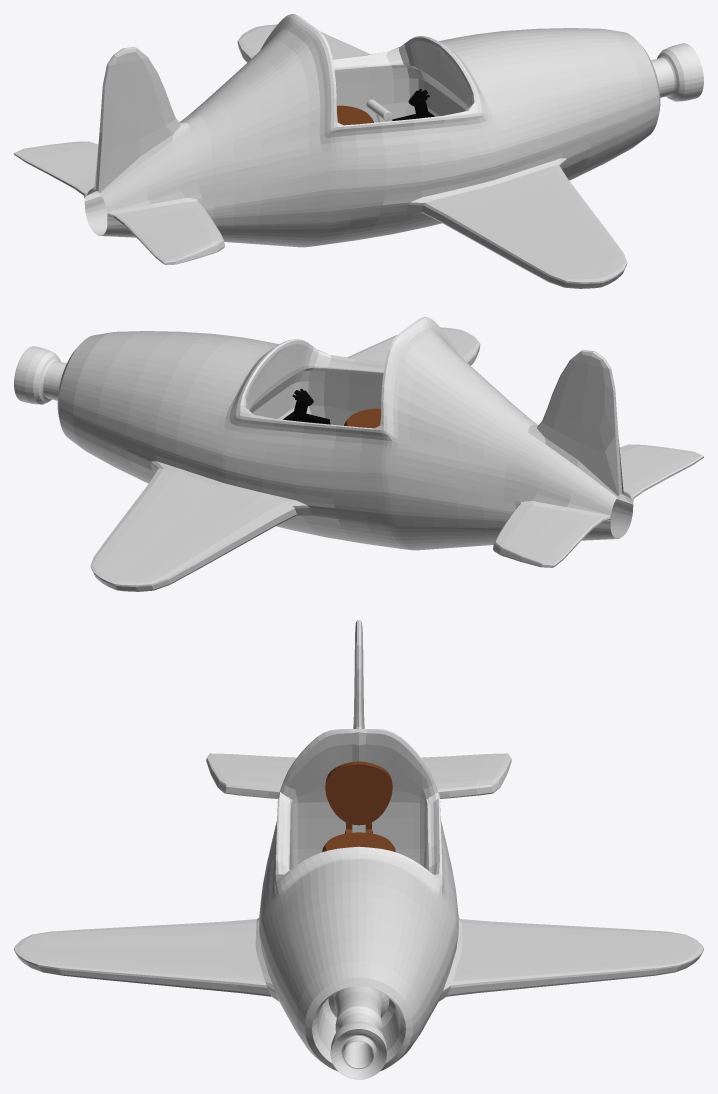
3 views of the same model, one above another, from view 1: azimuth 30°, elevation 25°; view 2: azimuth 150°, elevation 25°; view 3: azimuth 270°, elevation 25° (orthographic).
Visible parts, largest first — view 1: Cylinder, Cylinder.003; view 2: Cylinder, Cylinder.003, Cube.002; view 3: Cylinder, Cylinder.003.
Part boxes in pixels (x1=…): Cylinder: x1=14, y1=14, x2=703, y2=288; Cylinder.003: x1=337, y1=105, x2=373, y2=125; Cylinder: x1=14, y1=317, x2=703, y2=591; Cylinder.003: x1=344, y1=408, x2=380, y2=428; Cube.002: x1=292, y1=389, x2=313, y2=422; Cylinder: x1=14, y1=620, x2=703, y2=1079; Cylinder.003: x1=322, y1=761, x2=395, y2=851.
Size of the model in its own units: 772 by 296 by 771.
